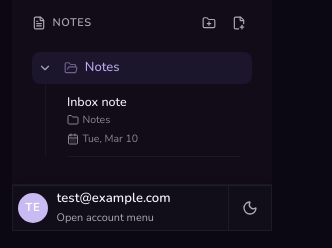
Sidebar › allows the default notes folder to collapse and expand
Expected: the text "Inbox note" is shown, [67,93,127,112]
Step 1. Click the button named "Collapse folder Notes" → x=45, y=68, box [33,53,57,83]
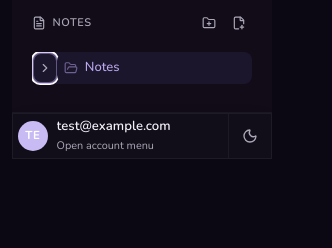
Result: the button "Inbox note" is gone
Step 2. Click the button named "Expand folder Notes" → x=45, y=68, box [33,53,57,83]
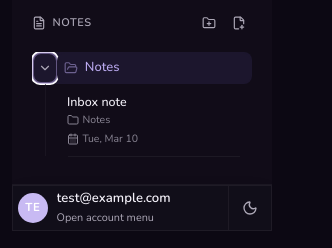
Result: the text "Inbox note" is shown at [67,93,127,112]
